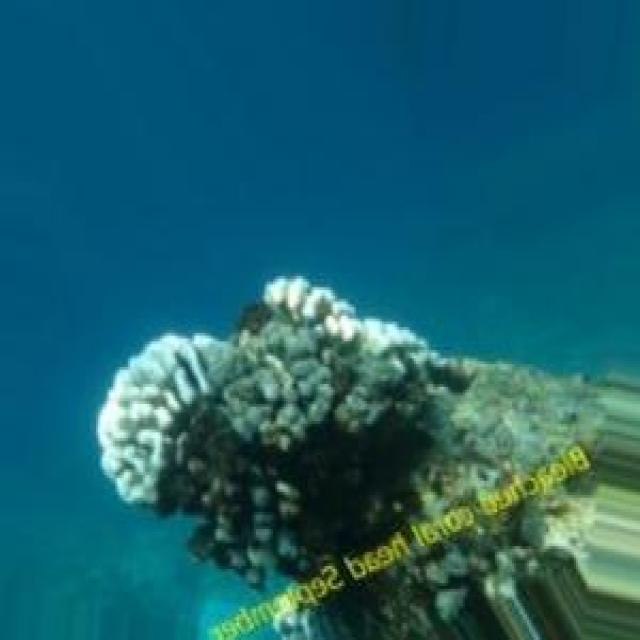Bleached: (101, 337, 227, 507), (263, 277, 436, 362)
